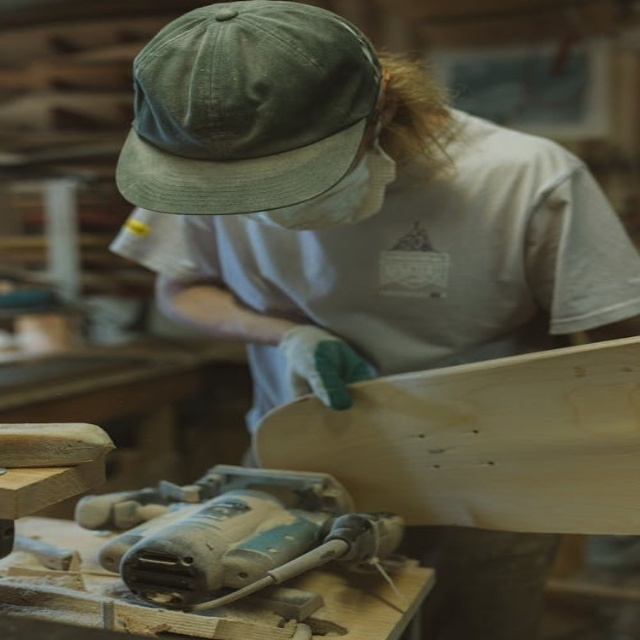Guantes: (278, 324, 374, 414)
Mascara: (259, 134, 397, 231)
